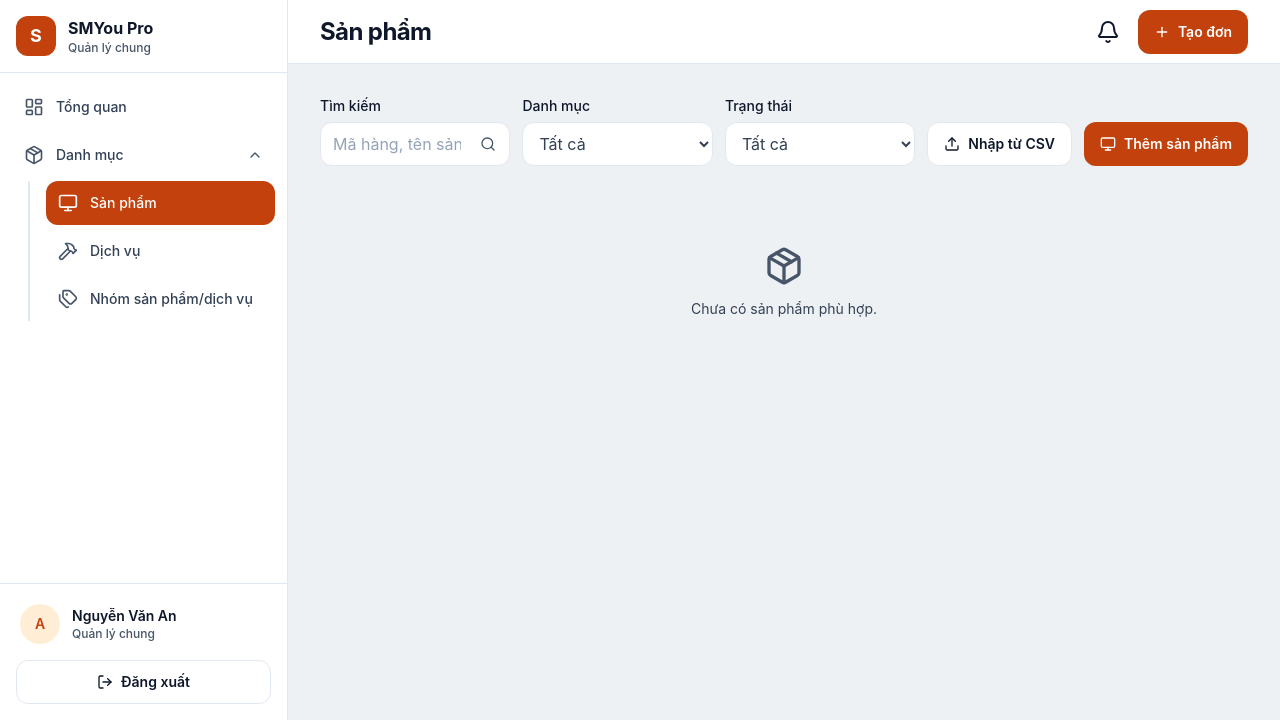
Test: AC-CAT-013 thêm sản phẩm › zod kiểm ở client trước khi gửi
What coordinates should you click on to do the following:
click the button "Thêm sản phẩm"
I would click on:
 (1166, 144)
Its box is [1084,122,1248,166].
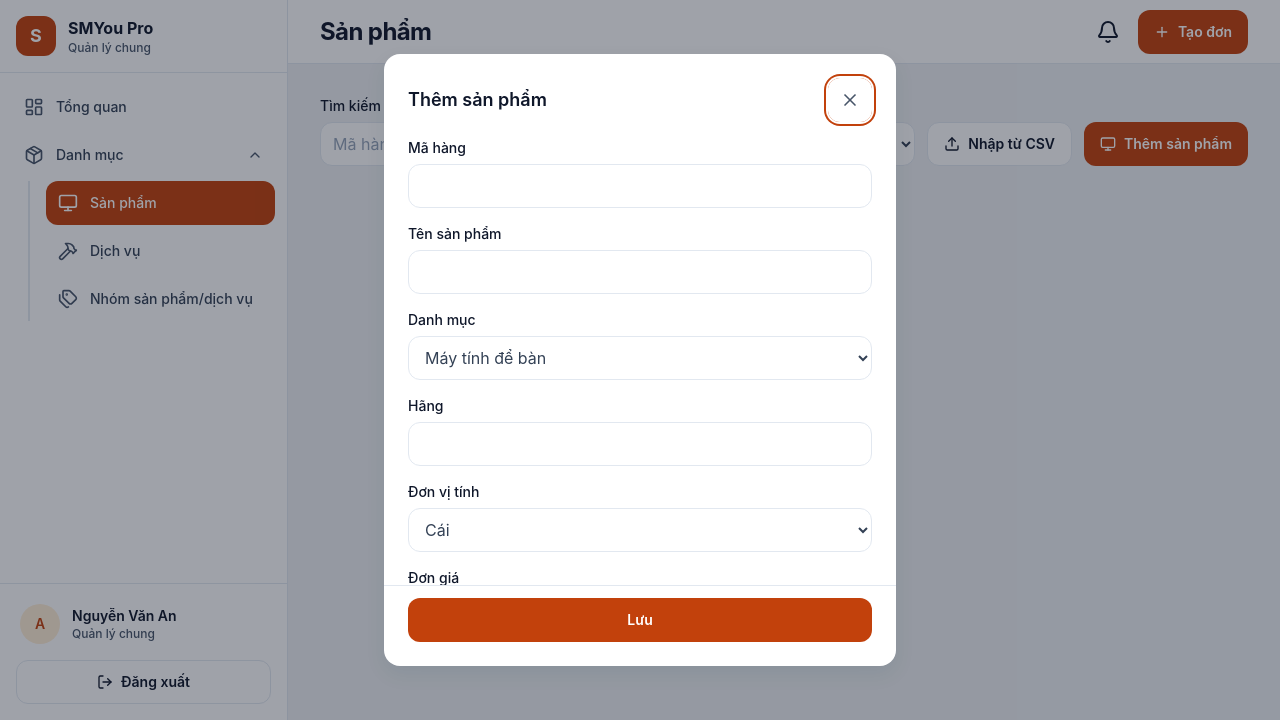
What coordinates should you click on to do the following:
click the button "Lưu"
I would click on:
 (640, 620)
Its box is [408,598,872,642].
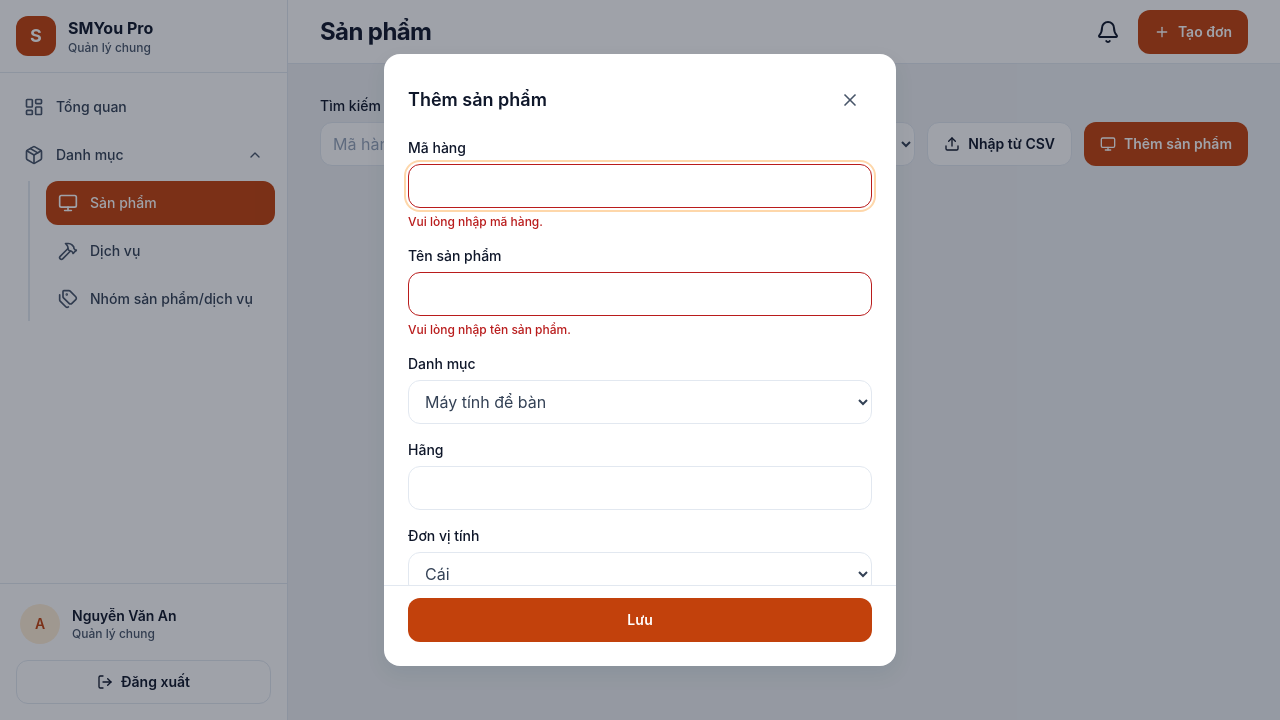
Result: the text "Vui lòng nhập mã hàng." is shown at [408,214,543,229]
